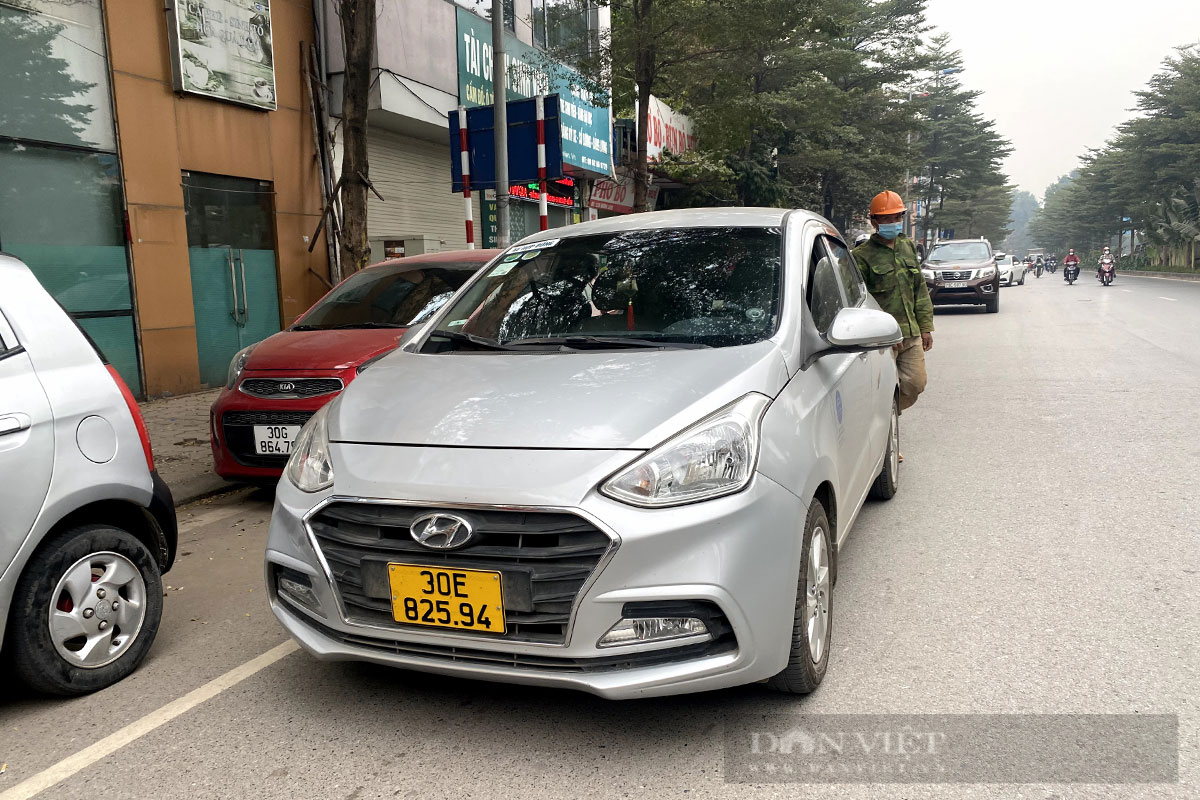number_plate: (389, 556, 509, 634), (252, 423, 303, 462)
